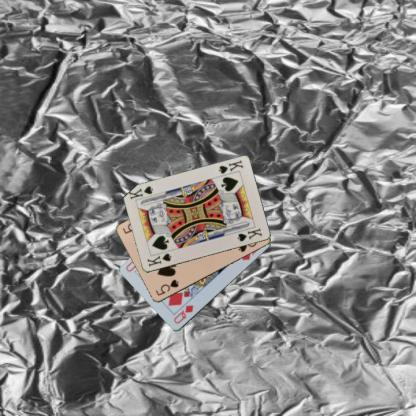5s: (152, 277, 180, 297)
Ks: (144, 251, 173, 268), (215, 158, 244, 175)
Qd: (171, 303, 195, 325)
